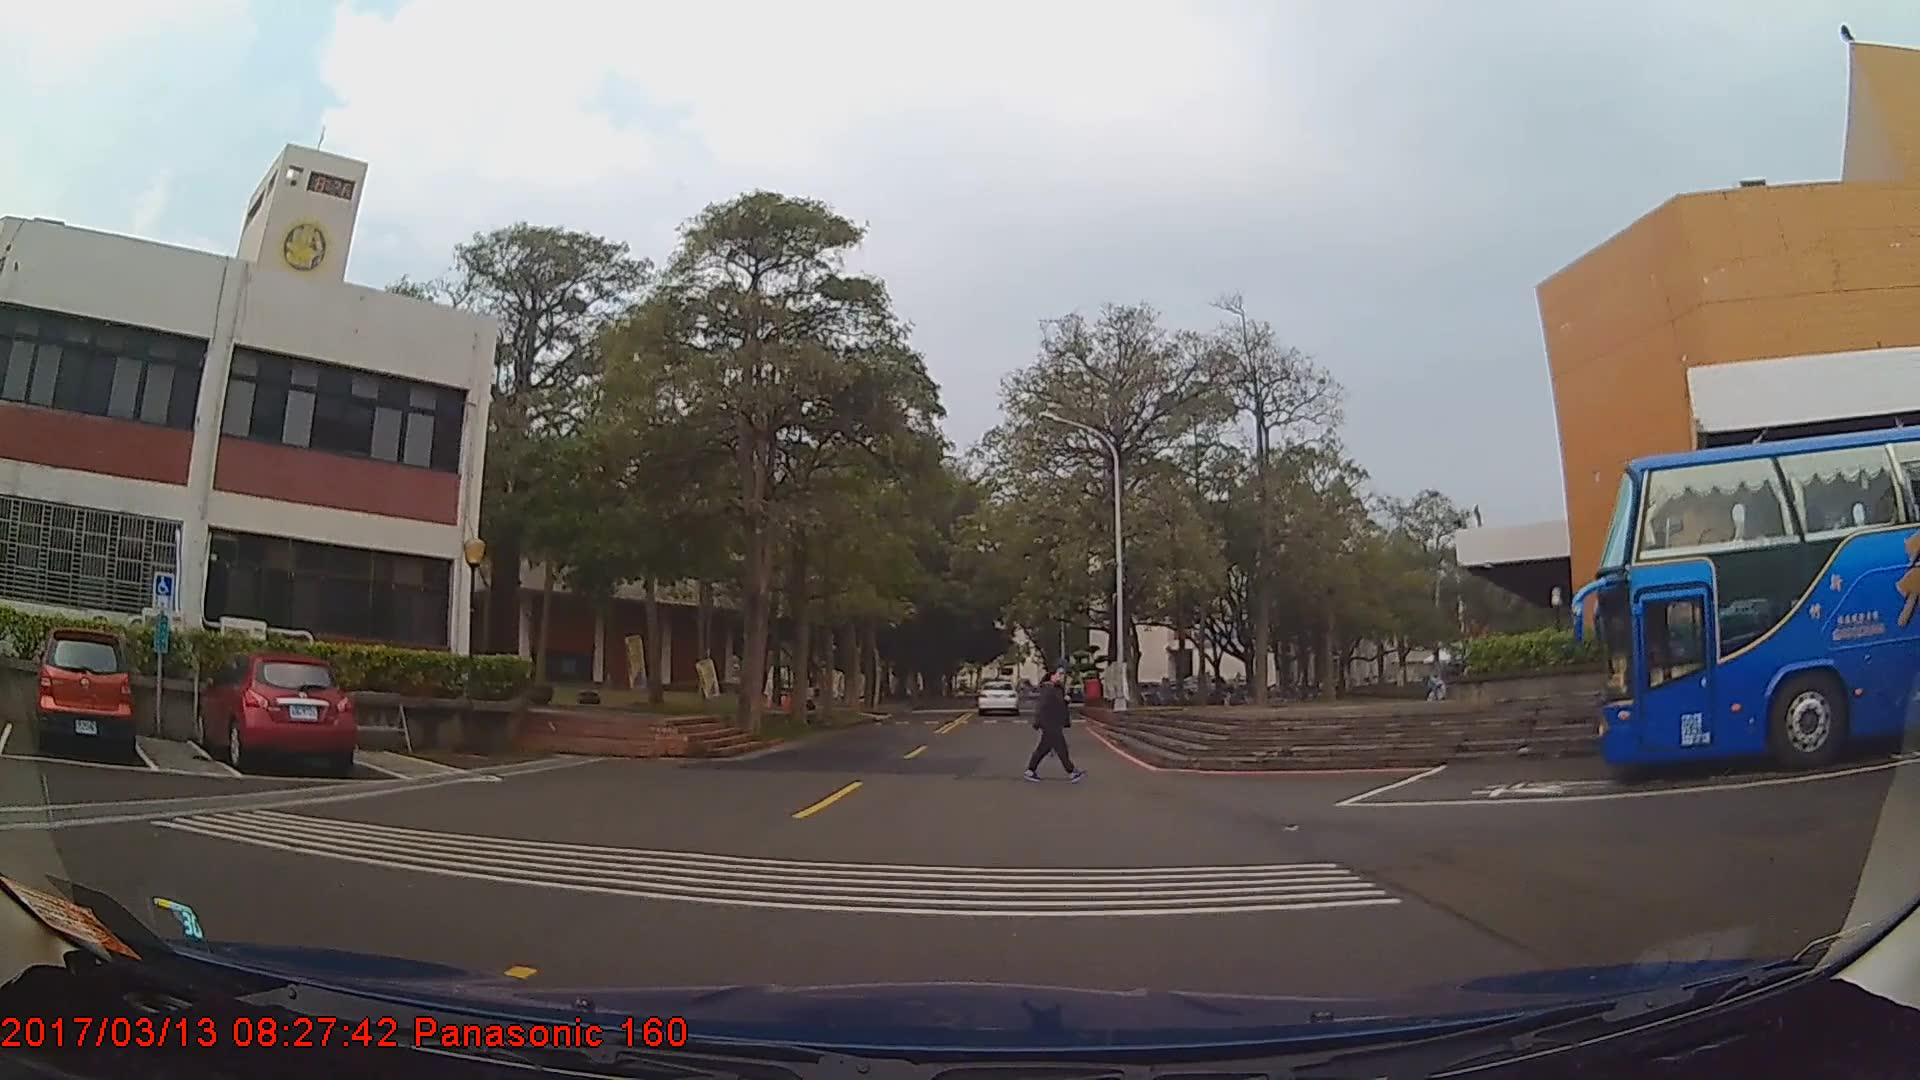pedestrian: (1021, 660, 1087, 787)
vehicle: (1597, 421, 1920, 782), (190, 653, 354, 775), (35, 627, 134, 752), (977, 676, 1017, 715)
